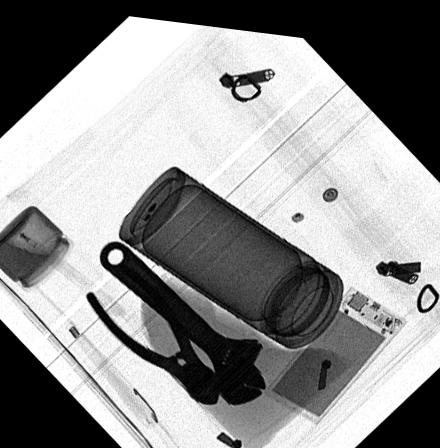Pliers: (83, 255, 221, 400)
Powerbank: (263, 274, 405, 416)
Wrench: (99, 236, 265, 399)
